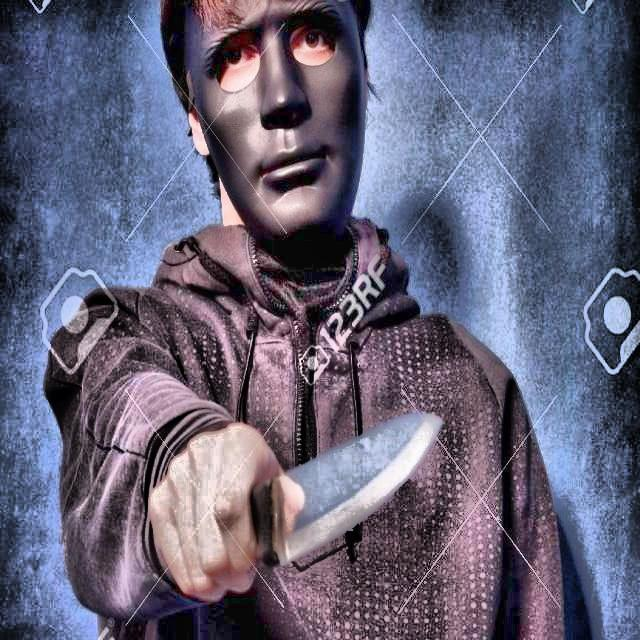knife: (157, 416, 439, 580)
